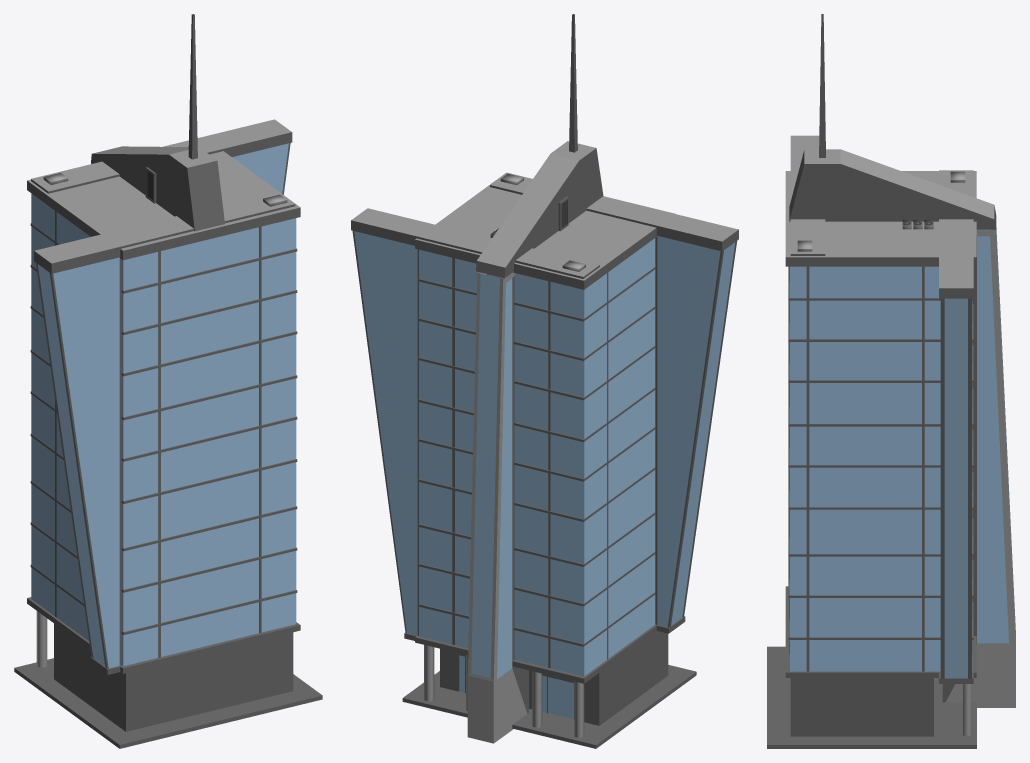
File: building.glb
3 renders of one model, left to right at view 1: azimuth 30°, elevation 25°; view 2: azimuth 150°, elevation 25°; view 3: azimuth 270°, elevation 25°, orthographic. The views are drawn at different scales.
Visible parts, largest first — view 1: Plane.045; view 2: Plane.045; view 3: Plane.045.
Part boxes in pixels (box(x1,y1,x2,y2)): Plane.045: box(14, 14, 322, 748); Plane.045: box(351, 14, 738, 748); Plane.045: box(767, 14, 1015, 748).
Bounding box in the file's own units: 11.21 × 23.49 × 7.71.
Materials: 1 (1 with a texture image).
